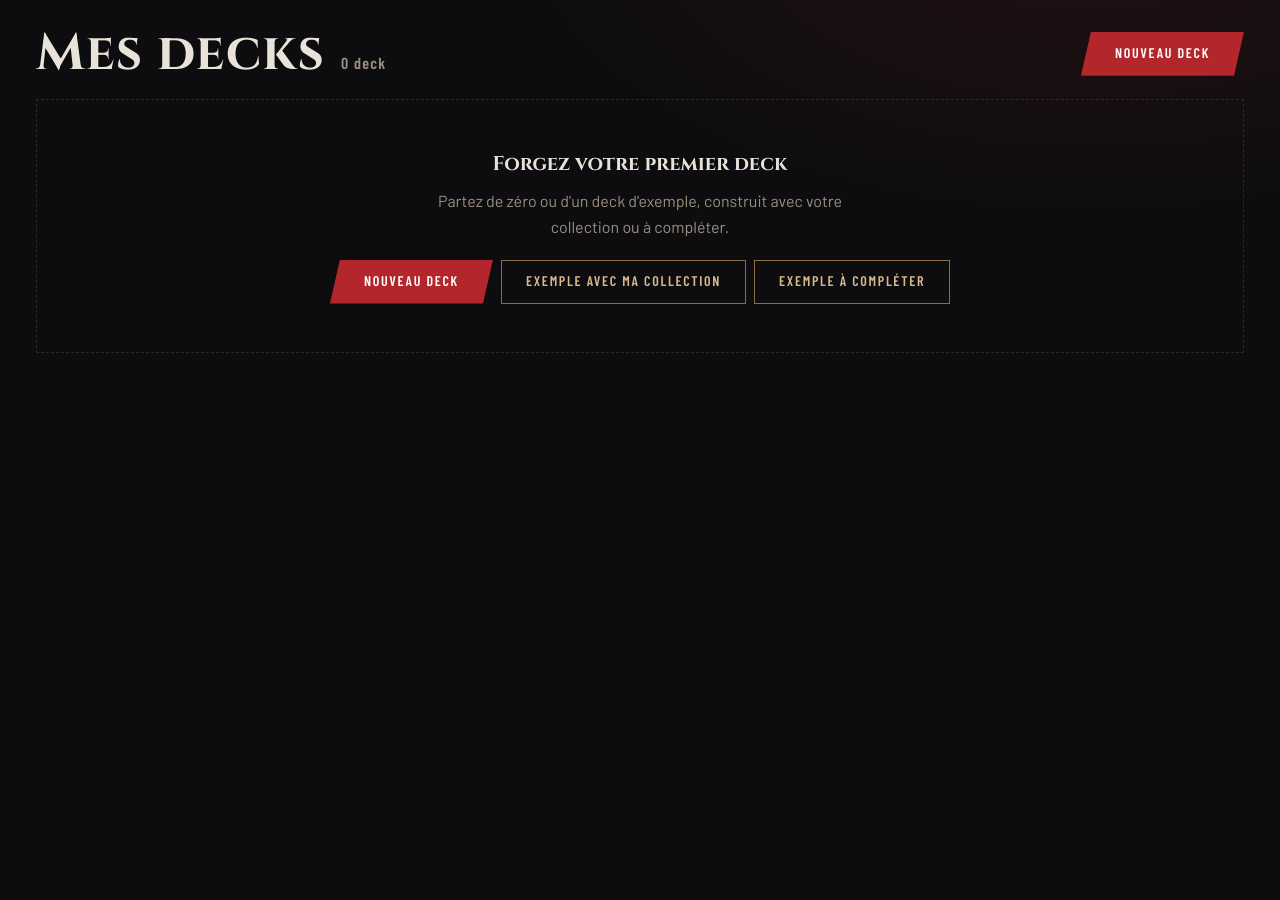
Test: DecksView › création en échec puis Annuler : l'alerte périmée disparaît de la page
Click the button with class "mesdecks-new": [1162, 54] box x1=1081 y1=32 x2=1244 y2=76
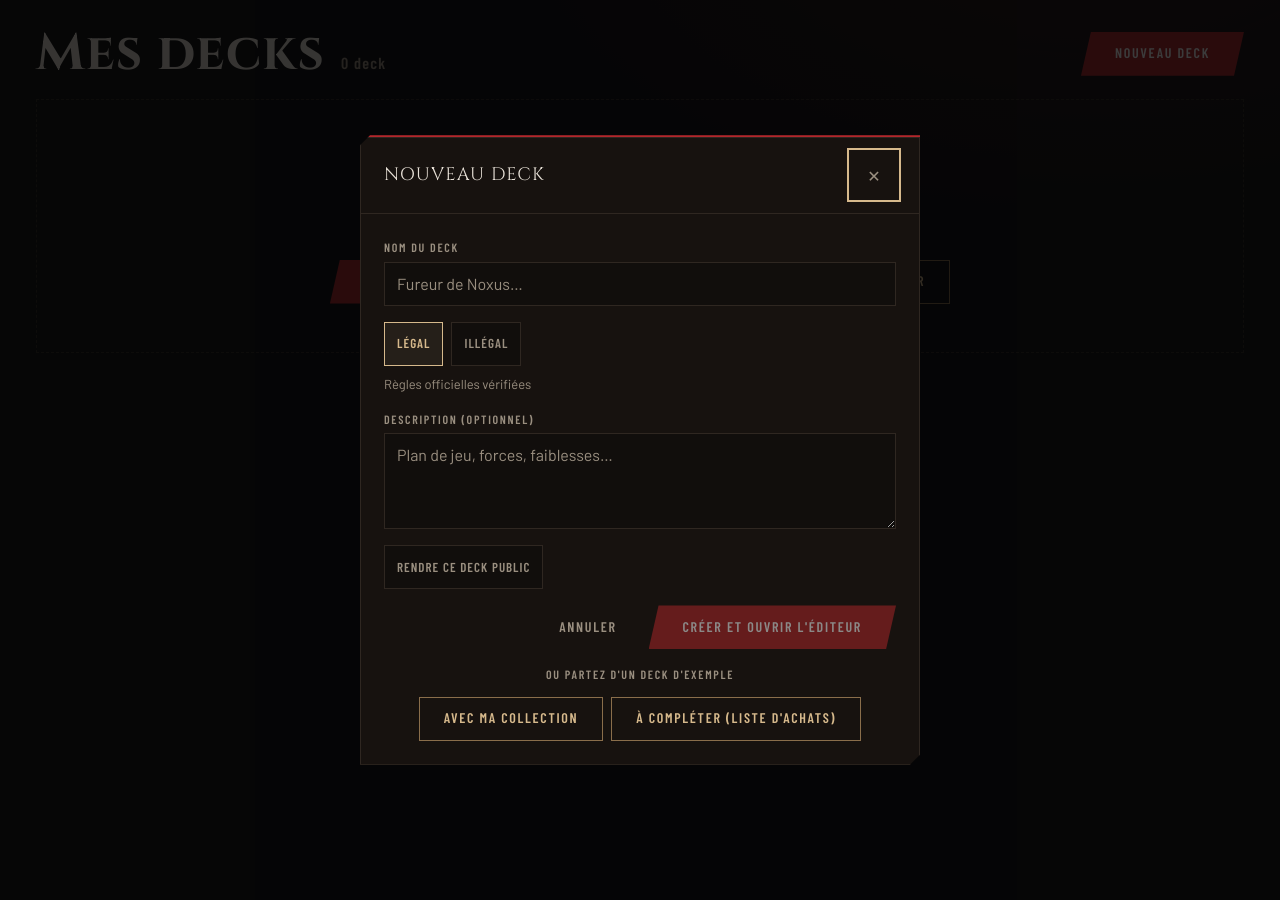
In the field labelled "Nom du deck": [640, 284] box x1=397 y1=271 x2=883 y2=296, type "Fureur de Noxus"
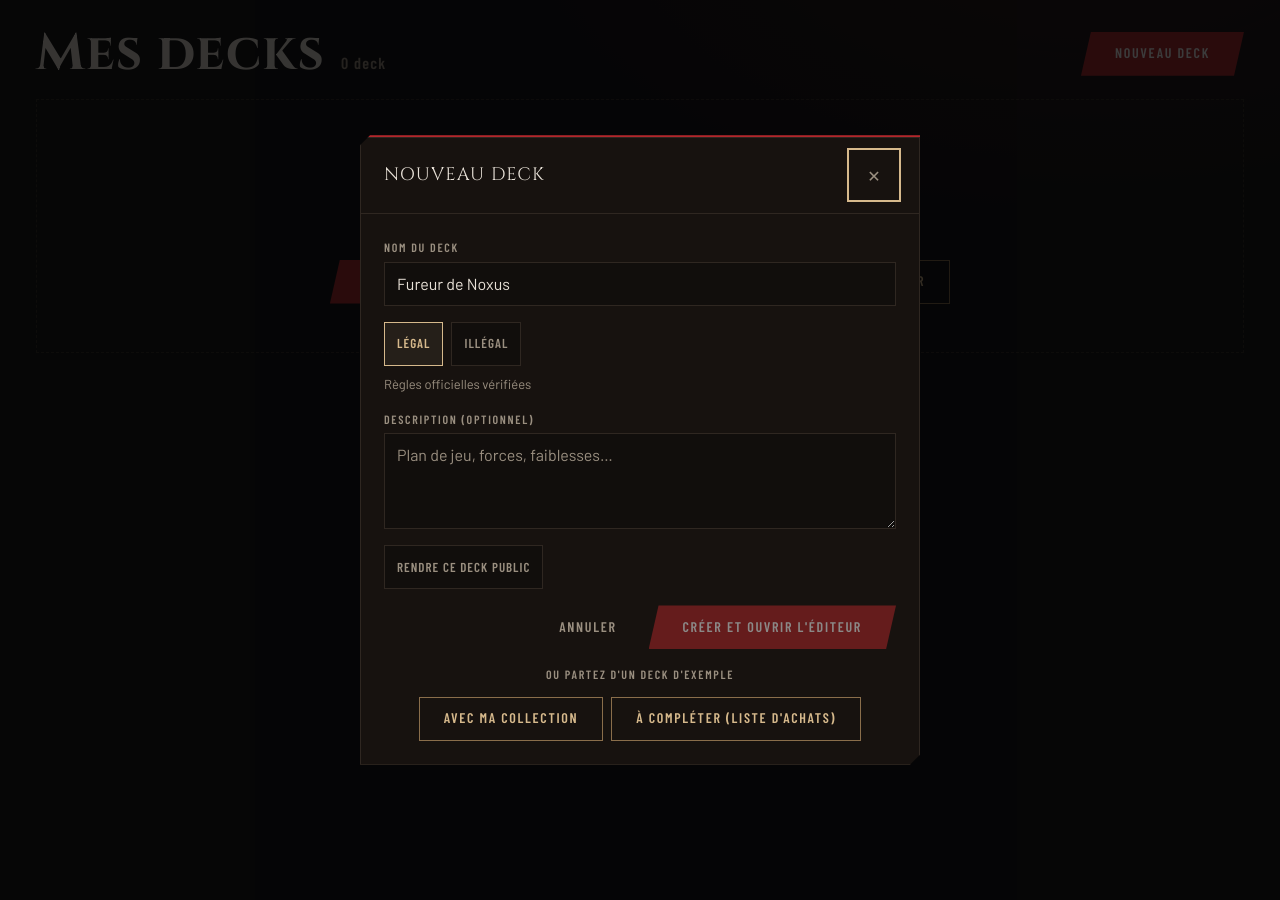
Submit the form, box x1=384 y1=238 x2=896 y2=650
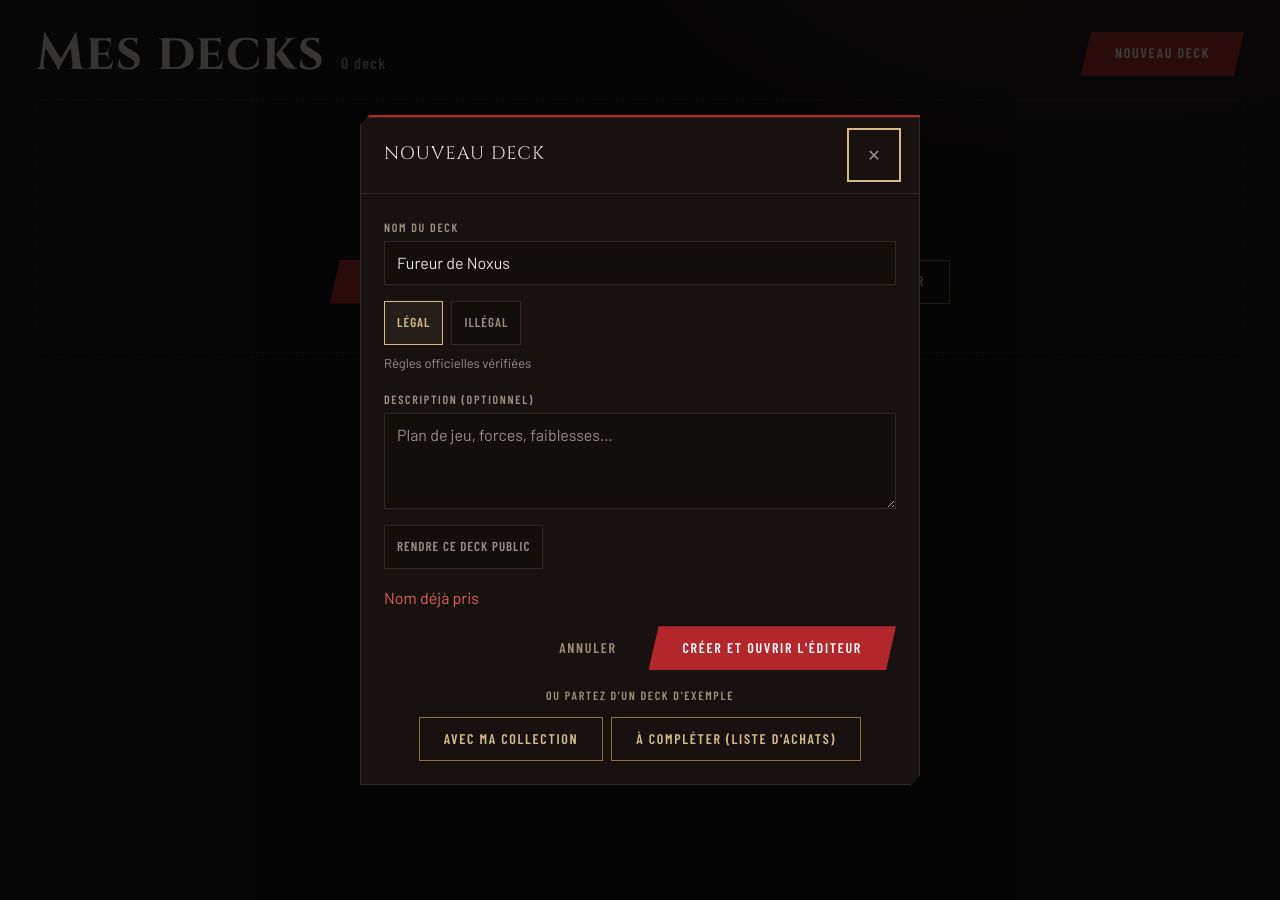
Expected: the message "Nom déjà pris" is shown, x1=384 y1=588 x2=479 y2=607
Click the button "Annuler": [588, 648] box x1=535 y1=626 x2=641 y2=670
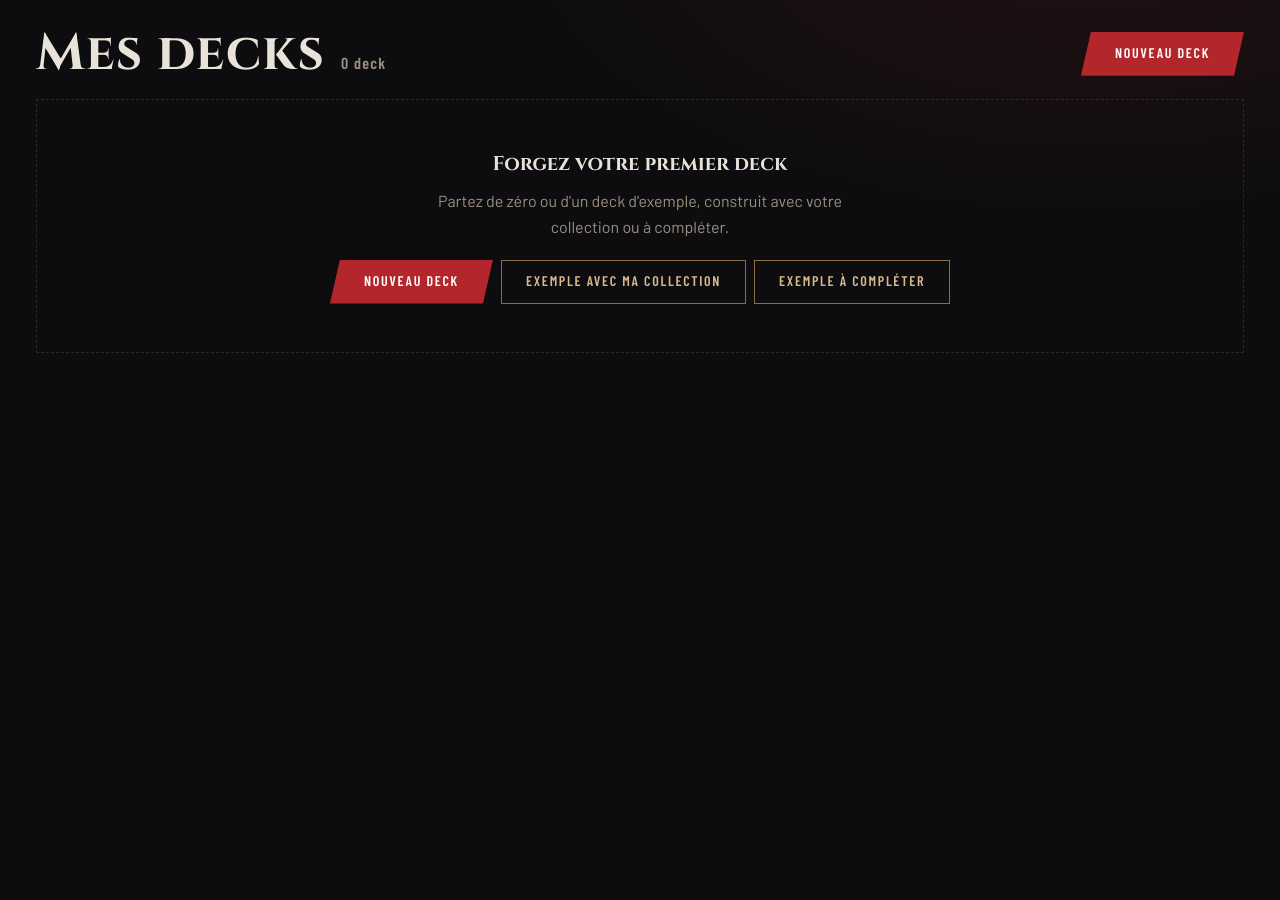
Expected: the dialog with class "rift-modal" is gone
Expected: the message with class "mesdecks-error" is gone
